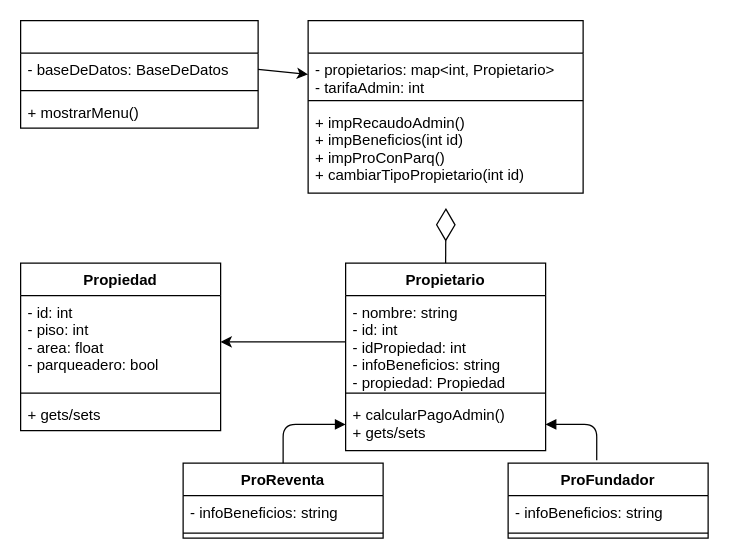
Image size: 729x559. Some labels were removed from this diagram. The shapes that lost their labels are listed below. From the top down, each one's box as (x1, y1, x2, y2) in pixels, then its label:
(19, 19, 258, 128): View
(307, 19, 583, 193): BaseDeDatos
